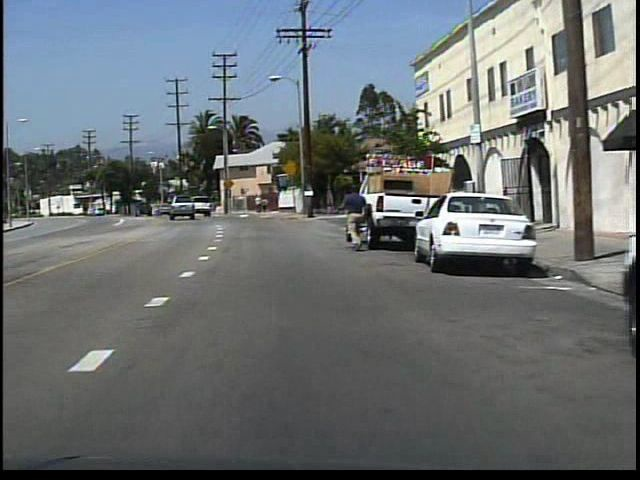person: (337, 183, 369, 253), (253, 194, 263, 216), (260, 197, 271, 216)
